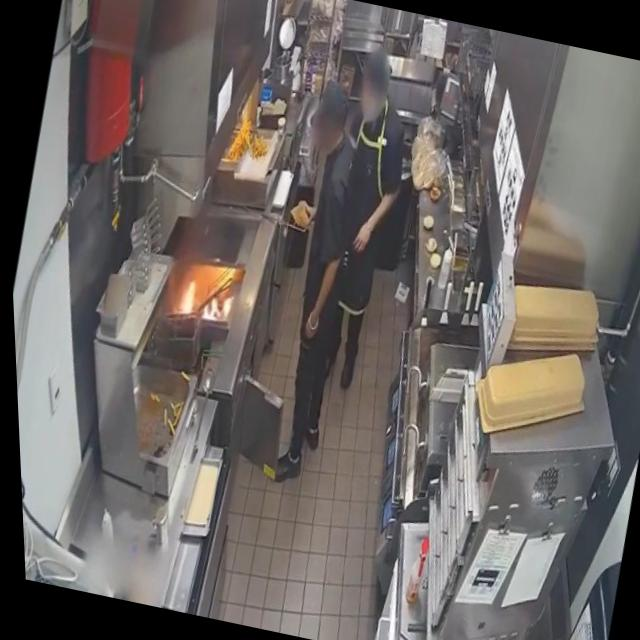fire: (165, 267, 206, 324), (196, 290, 226, 326)
